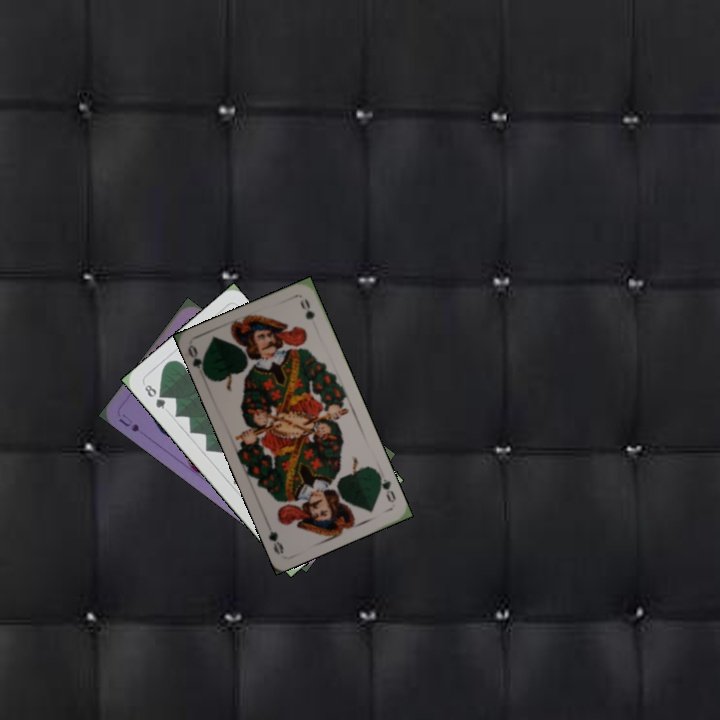G8: (140, 380, 168, 412)
GO: (184, 343, 211, 381), (373, 469, 399, 505)
SU: (115, 410, 142, 435)
